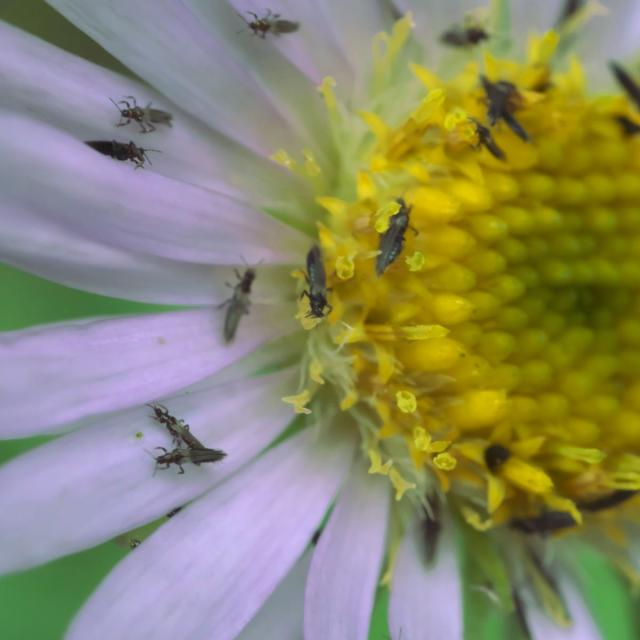Thrip-Adult-: (211, 253, 268, 346), (364, 199, 426, 280), (292, 243, 347, 334), (107, 89, 198, 141), (78, 128, 164, 179), (140, 440, 232, 474), (239, 1, 315, 41), (149, 399, 207, 451), (464, 115, 504, 173)
